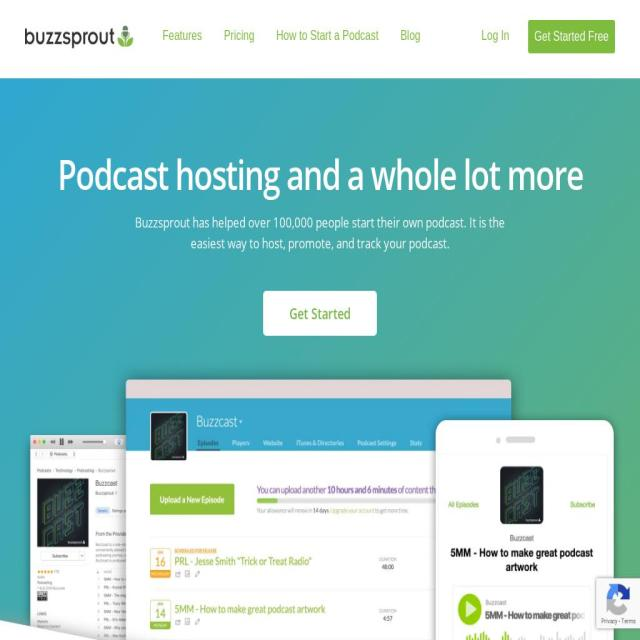button: (263, 291, 377, 336), (528, 20, 616, 53), (25, 25, 141, 50), (273, 25, 382, 47), (160, 25, 206, 47), (221, 25, 258, 47), (478, 25, 513, 47), (397, 25, 424, 47)
heading: (18, 153, 622, 195)
iframe: (596, 578, 640, 628)
image: (18, 361, 622, 640)
text: (117, 212, 523, 266)
